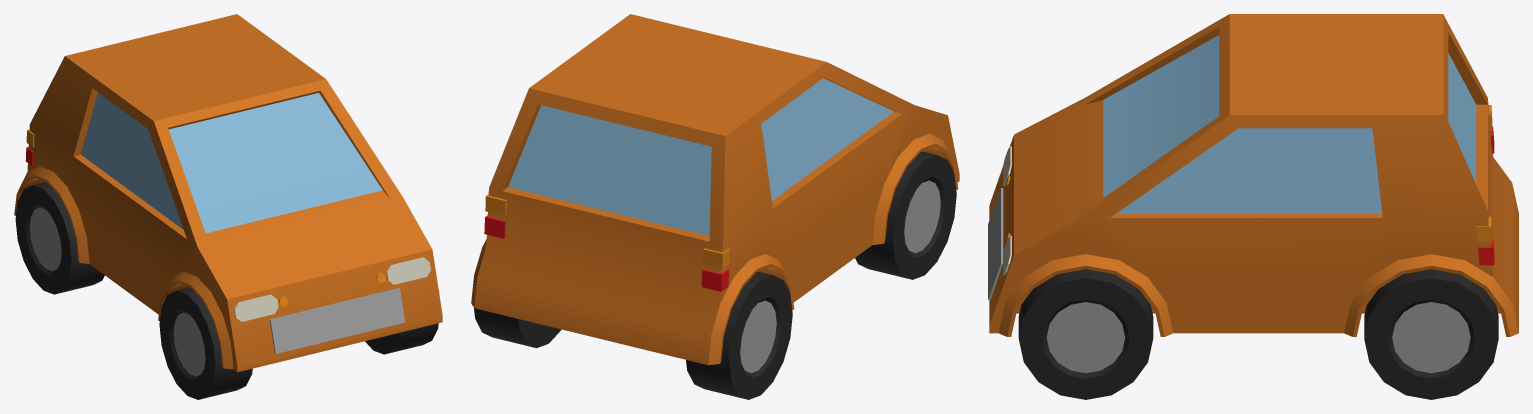
File: car2.glb
3 renders of one model, left to right at view 1: azimuth 30°, elevation 25°; view 2: azimuth 150°, elevation 25°; view 3: azimuth 270°, elevation 25°, orthographic. The views are drawn at different scales.
Visible parts, largest first — view 1: car-micro-orange_Cube.614; view 2: car-micro-orange_Cube.614; view 3: car-micro-orange_Cube.614.
Part boxes in pixels (x1=…): car-micro-orange_Cube.614: x1=14, y1=14, x2=442, y2=399; car-micro-orange_Cube.614: x1=471, y1=14, x2=959, y2=399; car-micro-orange_Cube.614: x1=988, y1=14, x2=1518, y2=399.
Bounding box in the file's own units: 0.834 × 0.7965 × 1.42.
